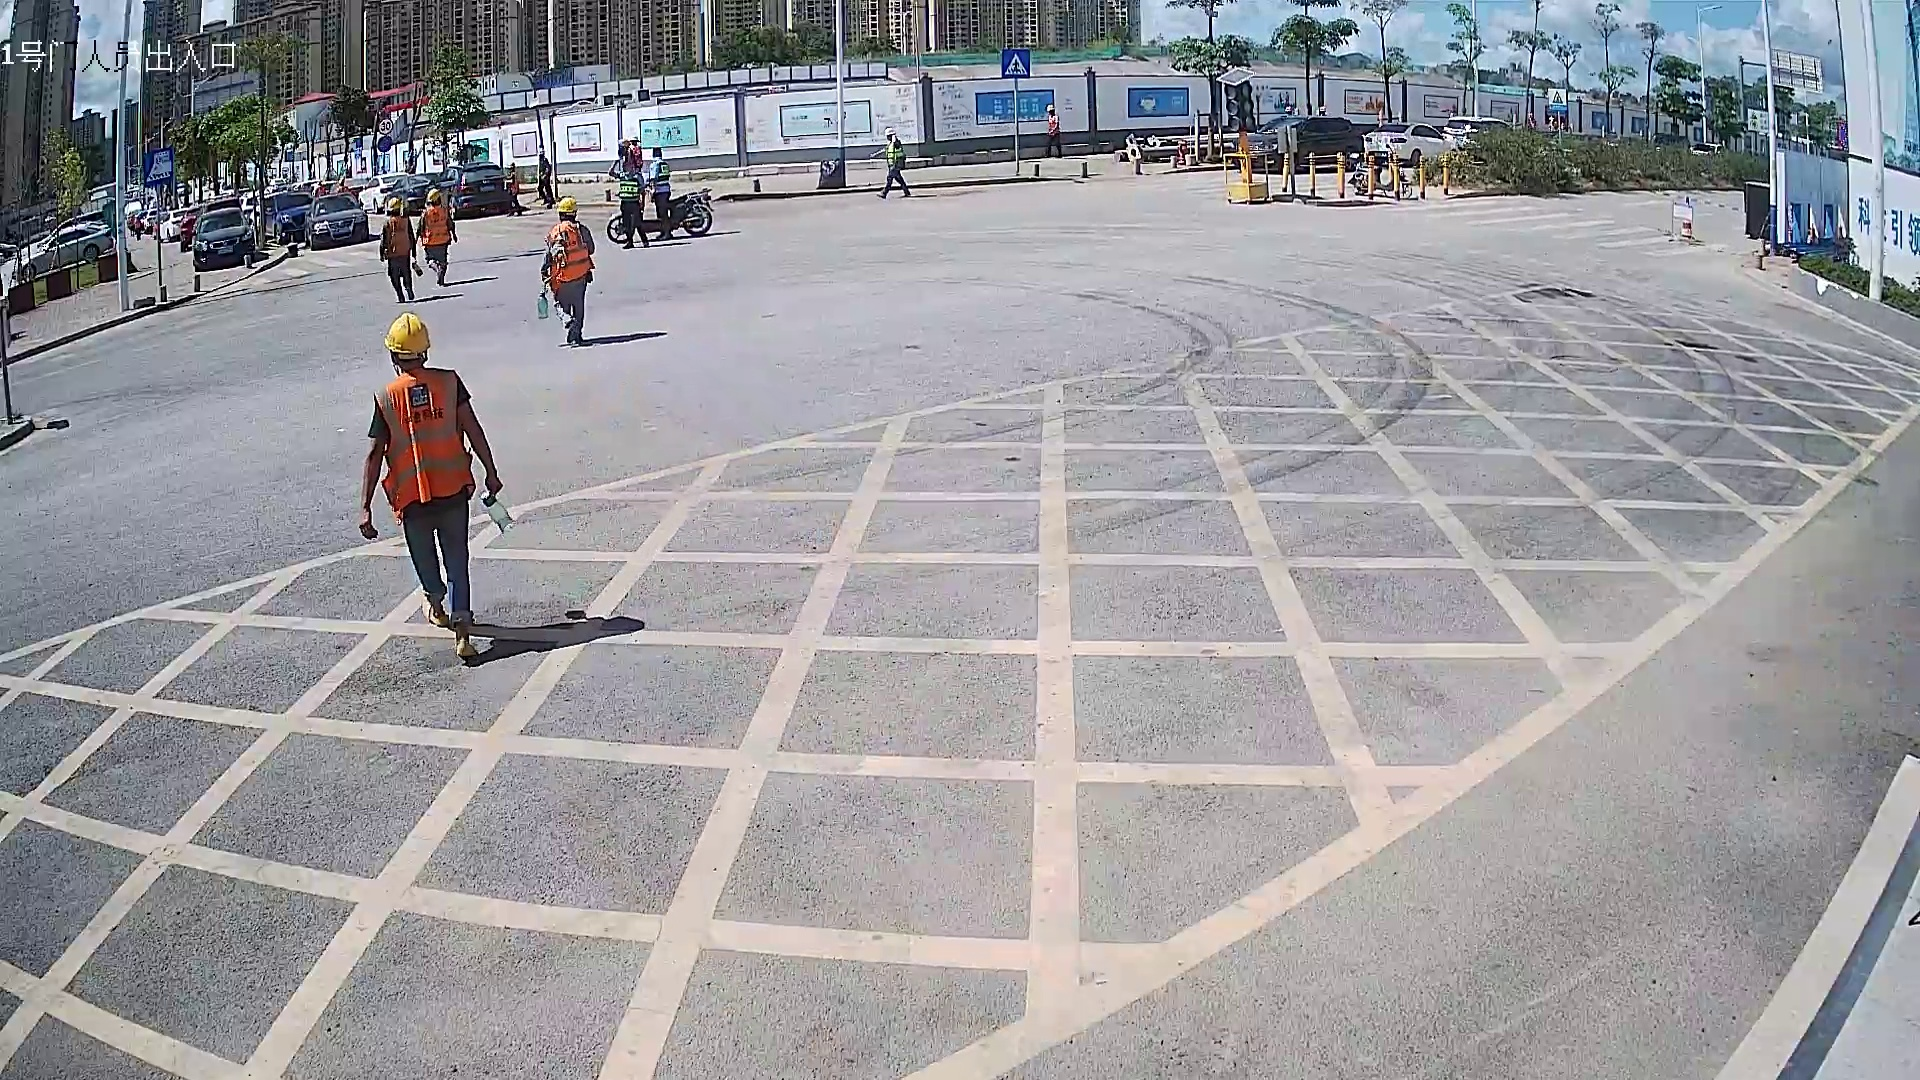person: (355, 308, 506, 665), (539, 194, 599, 351), (378, 195, 418, 305), (418, 187, 460, 285), (876, 124, 913, 200)
reflective_vest: (373, 366, 477, 526), (543, 220, 592, 284), (420, 205, 450, 246), (385, 214, 411, 258), (885, 139, 906, 166), (1047, 113, 1061, 135)
safety_helmet: (382, 308, 433, 378), (556, 194, 579, 222), (385, 196, 403, 216), (425, 187, 442, 206), (884, 125, 897, 140), (1046, 102, 1057, 115)
